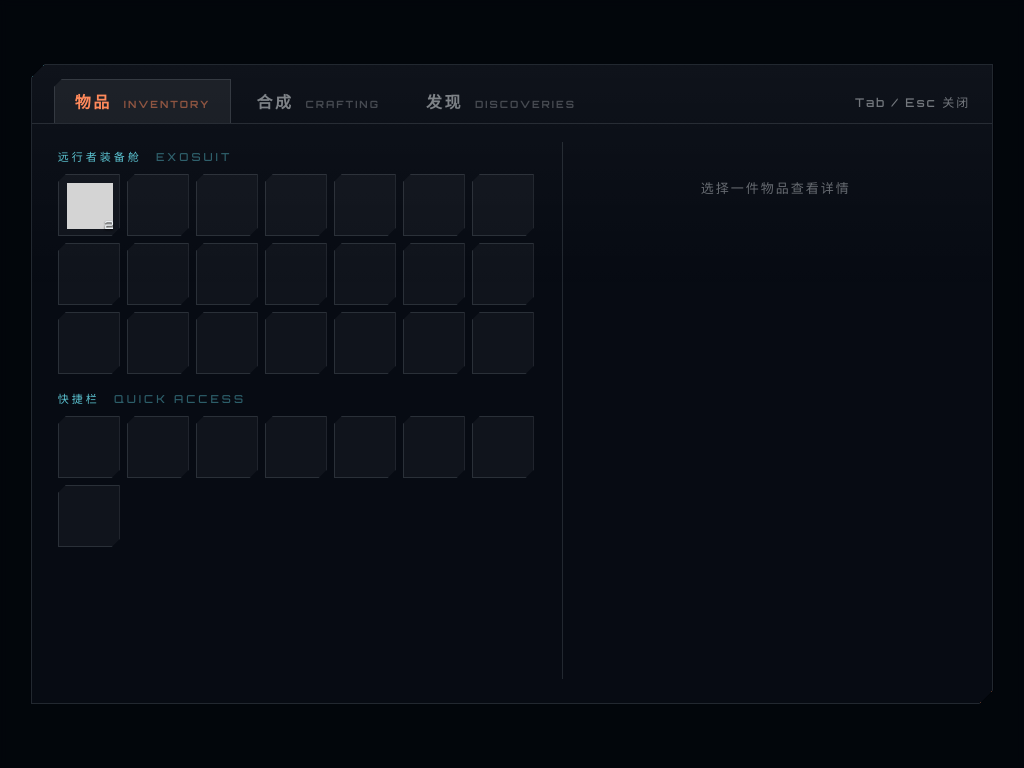
InventoryScreen › opens detail modal on long-press
Press the mouse on the element with class "slot" showing "2" at point(89, 205), box [58,174,120,236]
Wait 500 ms
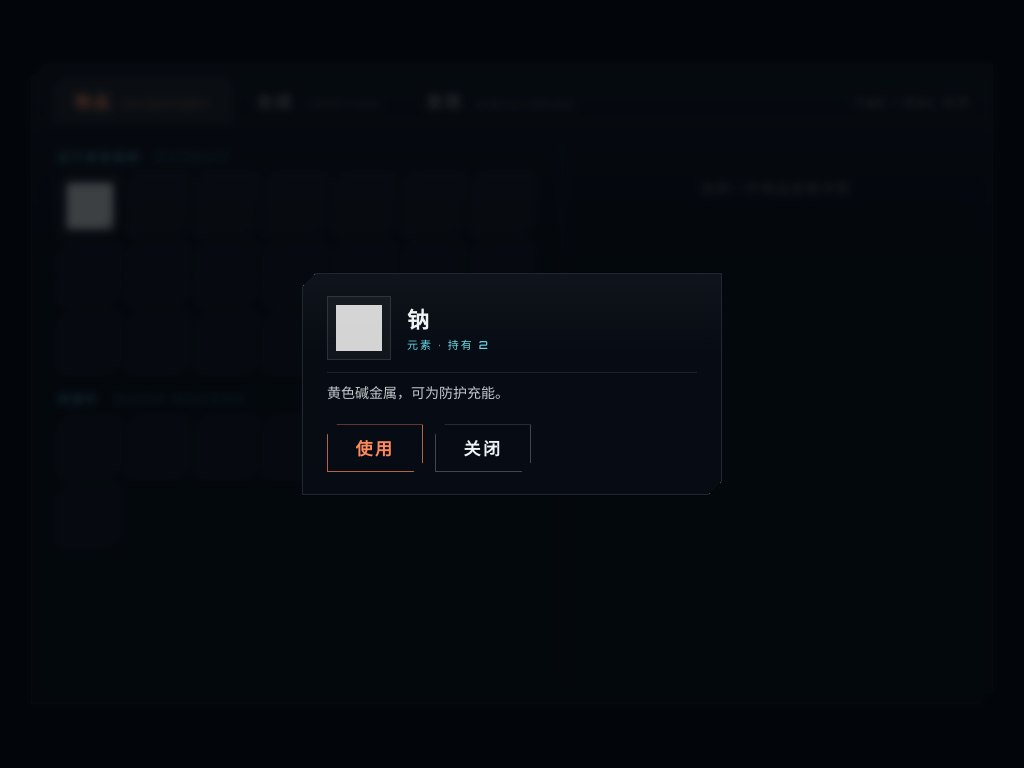
Now the element with class "inv-modal" is shown
Now the element with class "inv-modal" shows "钠", box [407,308,431,336]
